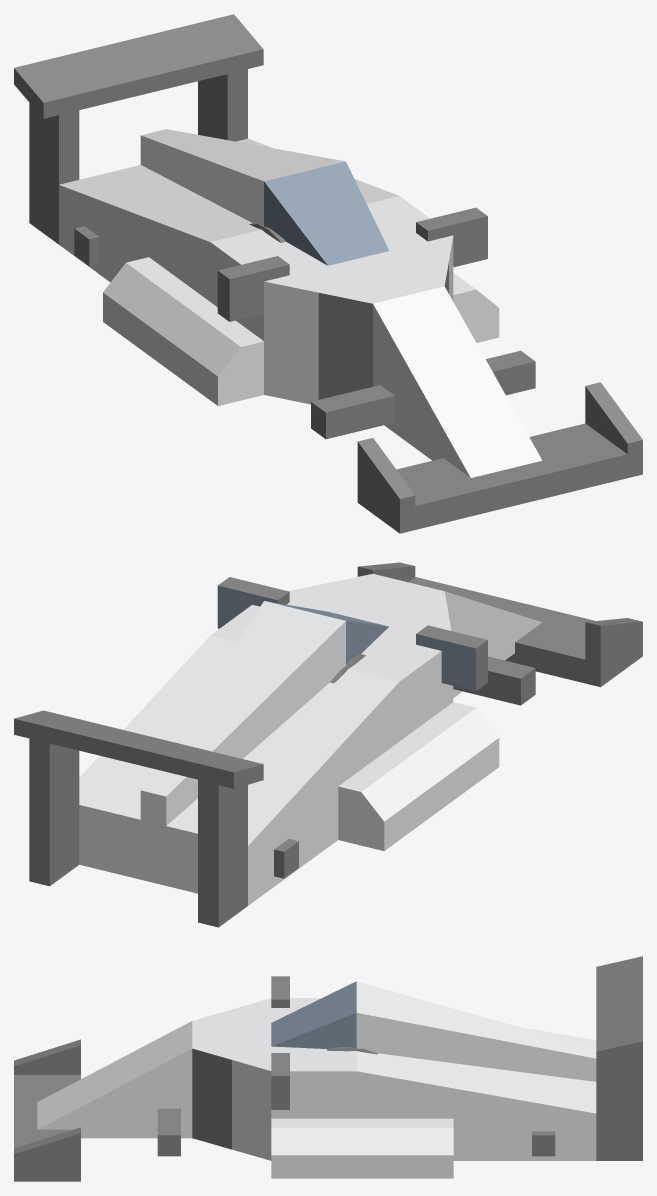
The model's file is raceCarWhite.glb.
The picture shows the model from 3 angles, top to bottom: view 1: azimuth 30°, elevation 25°; view 2: azimuth 150°, elevation 25°; view 3: azimuth 270°, elevation 25°; orthographic projection. The views are drawn at different scales.
Parts seen in each view (by area): view 1: raceCarWhite.001; view 2: raceCarWhite.001; view 3: raceCarWhite.001.
Boxes of the visible parts, x1,y1,x2,y2 form: raceCarWhite.001: [14, 14, 642, 533]; raceCarWhite.001: [14, 562, 642, 927]; raceCarWhite.001: [14, 956, 642, 1181].
Size of the model in its own units: 2.75 by 1.82 by 6.73.
